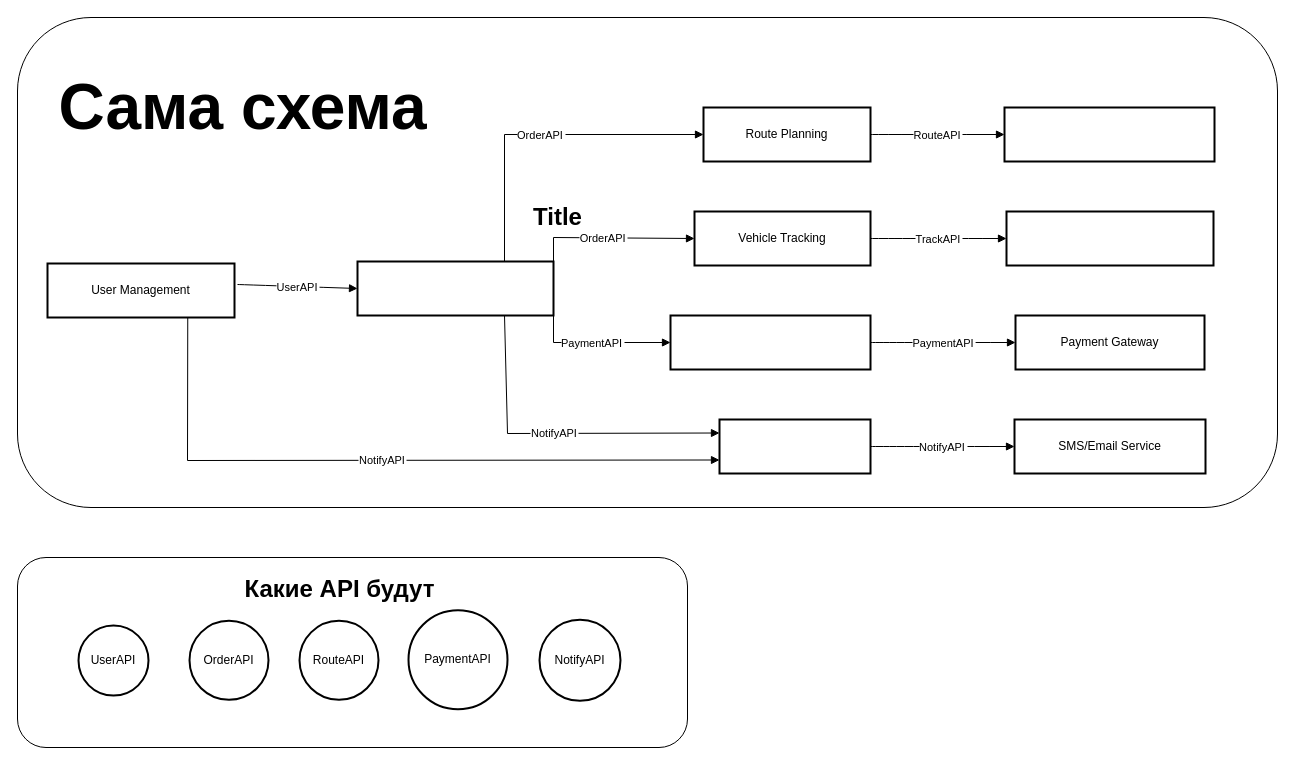
This 1295x765 diagram has some shape labels left out. The centre of each missing label's shape, as x and y in pixels:
External Map Service: (1109,134)
GPS Tracking System: (1109,238)
Notifications: (794,446)
Order Management: (455,288)
Payment Processing: (770,342)
